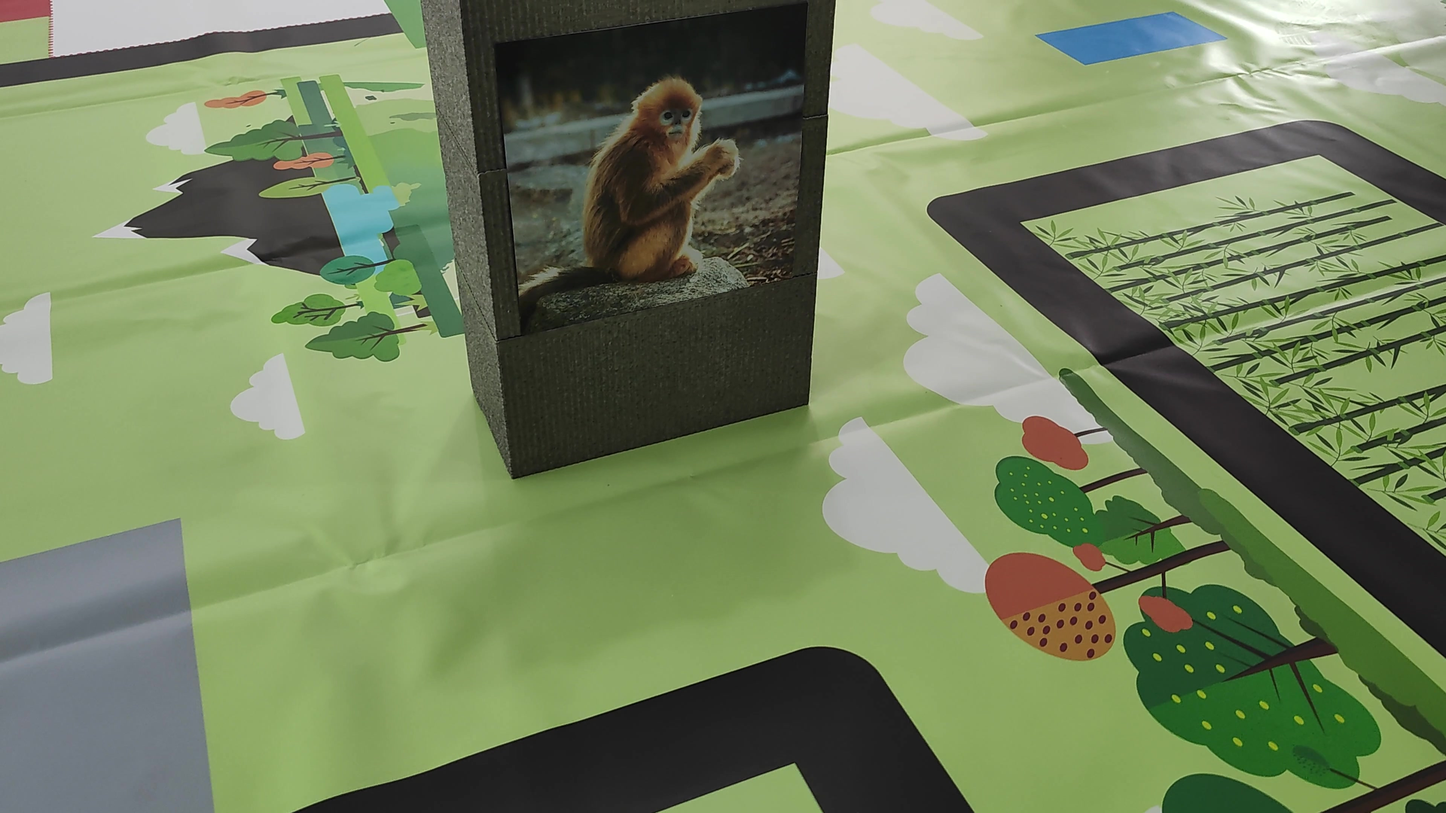monkey: (507, 73, 750, 328)
